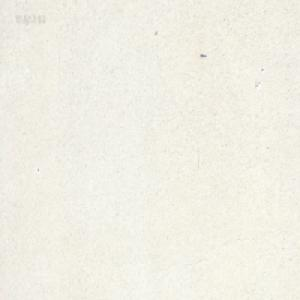Nail: (199, 52, 206, 57)
